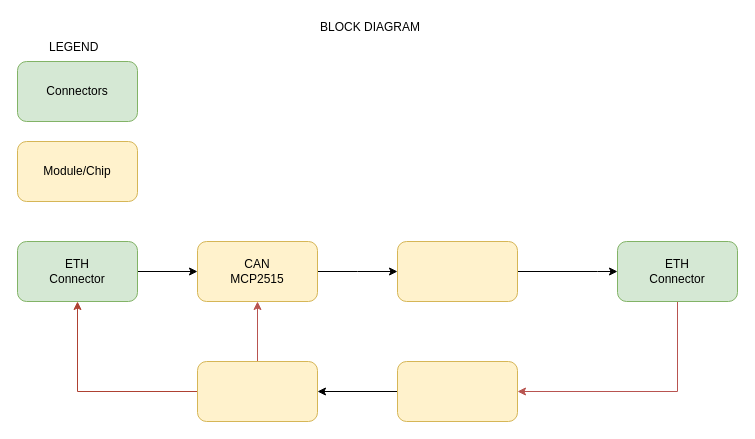
Some shapes in this 755 by 439 pixel diagram are drawn without their labels. The centre of each missing label's shape, as x and y in pixels:
"CAN MCP2551" belongs at point 457,271.
"DC-DC +5V" belongs at point 457,391.
"Pira SMart" belongs at point 257,391.
